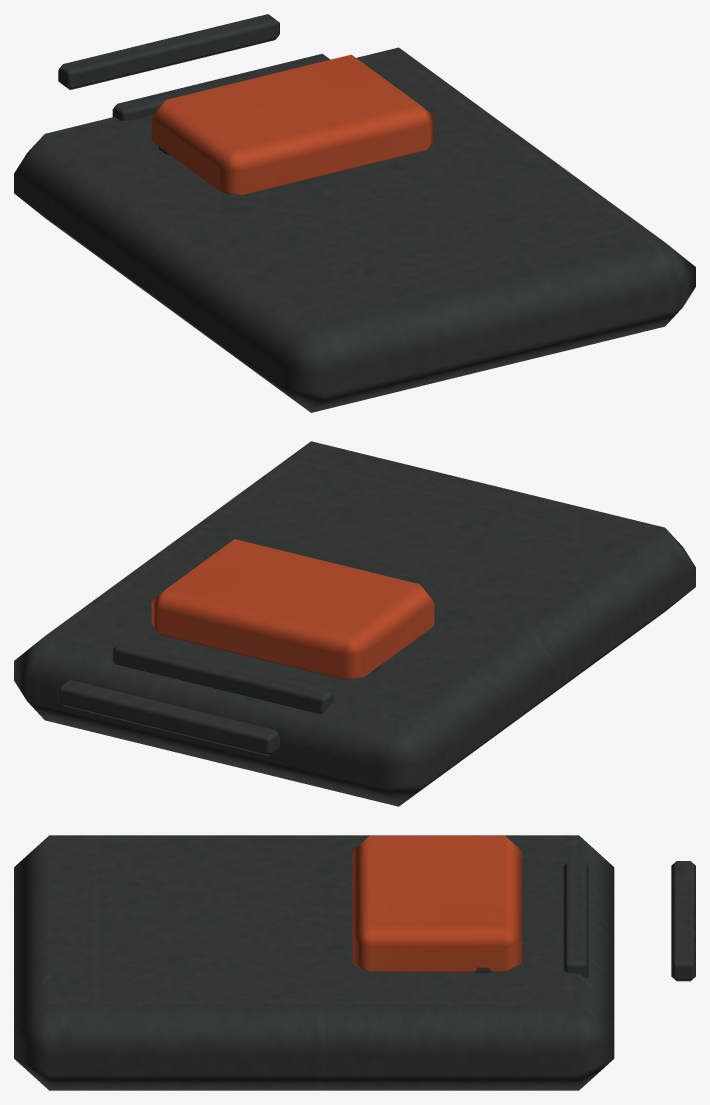
Rendered from mech_mug_valve.fbx.
The picture shows the model from 3 angles, top to bottom: view 1: azimuth 30°, elevation 25°; view 2: azimuth 150°, elevation 25°; view 3: azimuth 270°, elevation 25°; orthographic projection.
Visible parts, largest first — view 1: SM_mech_mug_valve; view 2: SM_mech_mug_valve; view 3: SM_mech_mug_valve.
Part boxes in pixels (box(x1,y1,x2,y2)): SM_mech_mug_valve: box(14, 14, 695, 412); SM_mech_mug_valve: box(14, 441, 695, 806); SM_mech_mug_valve: box(14, 835, 695, 1090).
Bounding box in the file's own units: 0.031 × 0.0089 × 0.0443.
Materials: 2 (2 with a texture image).
